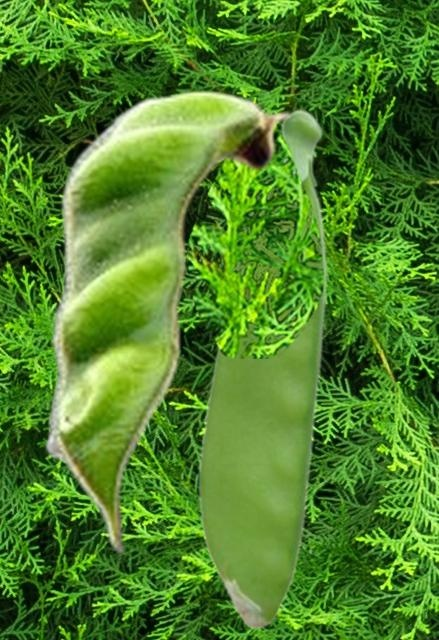pea: (43, 89, 291, 554), (197, 107, 327, 629)
